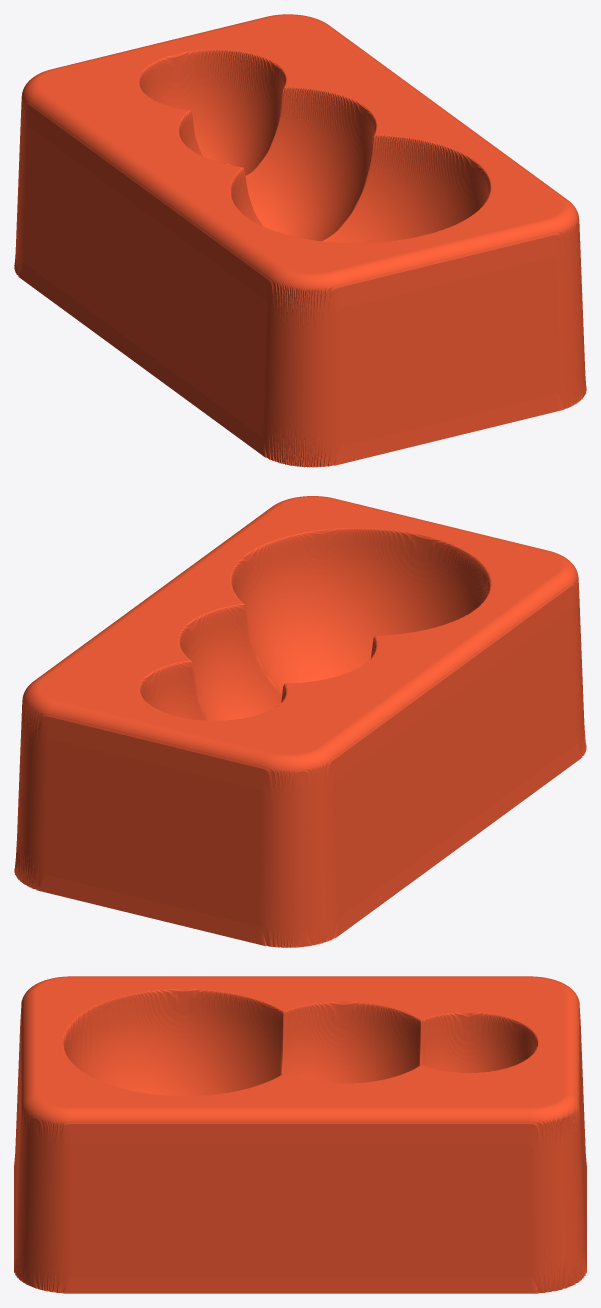
The model's file is mold.glb.
3 views of the same model, one above another, from view 1: azimuth 30°, elevation 25°; view 2: azimuth 150°, elevation 25°; view 3: azimuth 270°, elevation 25° (orthographic). The views are drawn at different scales.
Parts seen in each view (by area): view 1: geometry_0; view 2: geometry_0; view 3: geometry_0.
Boxes of the visible parts, x1,y1,x2,y2 form: geometry_0: (14, 14, 586, 467); geometry_0: (14, 496, 586, 947); geometry_0: (14, 976, 586, 1293).
Size of the model in its own units: 0.056 by 0.031 by 0.0912.
